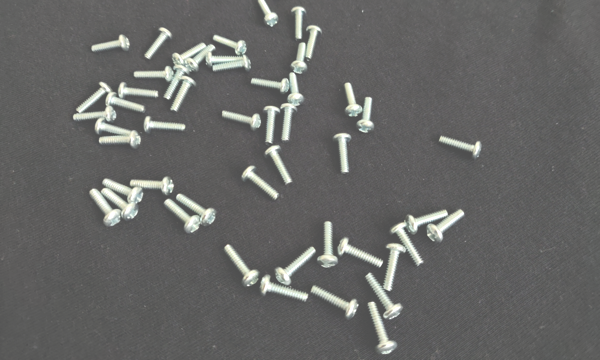shortscrew: (365, 274, 404, 319), (388, 222, 425, 267), (368, 301, 398, 356), (275, 247, 317, 286), (224, 245, 261, 288), (311, 286, 359, 319), (426, 209, 467, 244), (337, 238, 384, 268), (176, 194, 217, 228), (164, 199, 202, 235), (242, 166, 280, 201), (89, 189, 122, 229), (259, 275, 309, 301), (102, 188, 139, 222), (383, 243, 408, 292), (265, 146, 294, 187), (77, 81, 113, 114), (404, 209, 449, 235), (438, 134, 483, 159), (103, 179, 143, 204), (222, 109, 262, 133), (171, 76, 196, 113), (145, 28, 173, 61), (106, 92, 147, 114), (164, 66, 189, 102), (318, 222, 337, 269), (130, 177, 174, 196), (185, 45, 215, 72), (92, 35, 131, 55), (334, 134, 353, 174), (212, 34, 248, 55), (144, 116, 186, 134), (73, 107, 117, 124), (118, 82, 159, 100), (99, 131, 141, 148), (264, 106, 282, 145), (173, 44, 206, 65), (280, 104, 298, 142), (134, 67, 175, 83), (344, 83, 363, 117), (286, 73, 305, 107), (305, 25, 323, 60), (357, 97, 374, 134), (251, 78, 289, 94), (290, 43, 309, 74), (258, 0, 279, 28), (291, 7, 308, 41), (96, 118, 130, 135)
